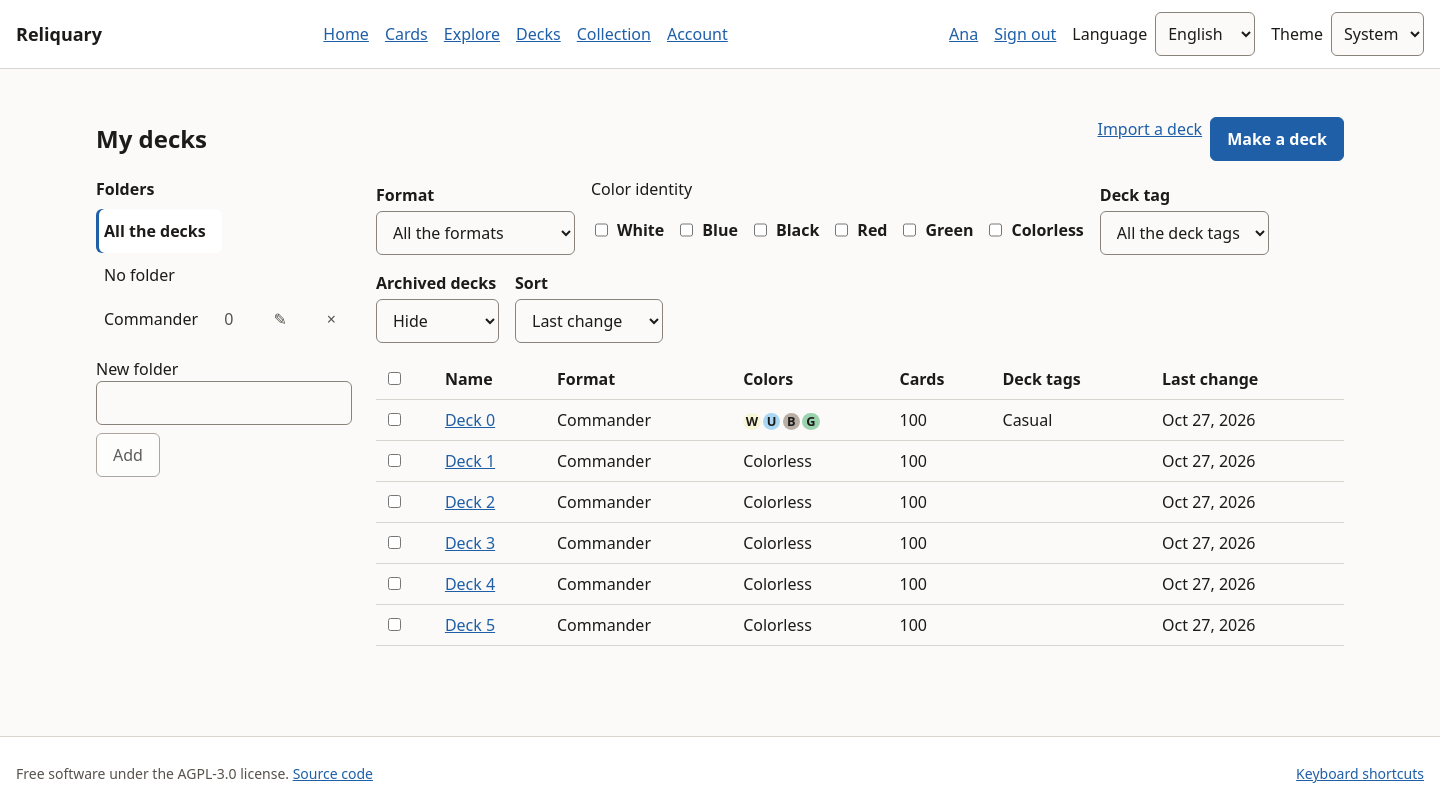
Test: deck organization › moves five decks to a folder in one action
Click the checkbox named "Select Deck 0" at [394, 419], box [388,413,401,426]
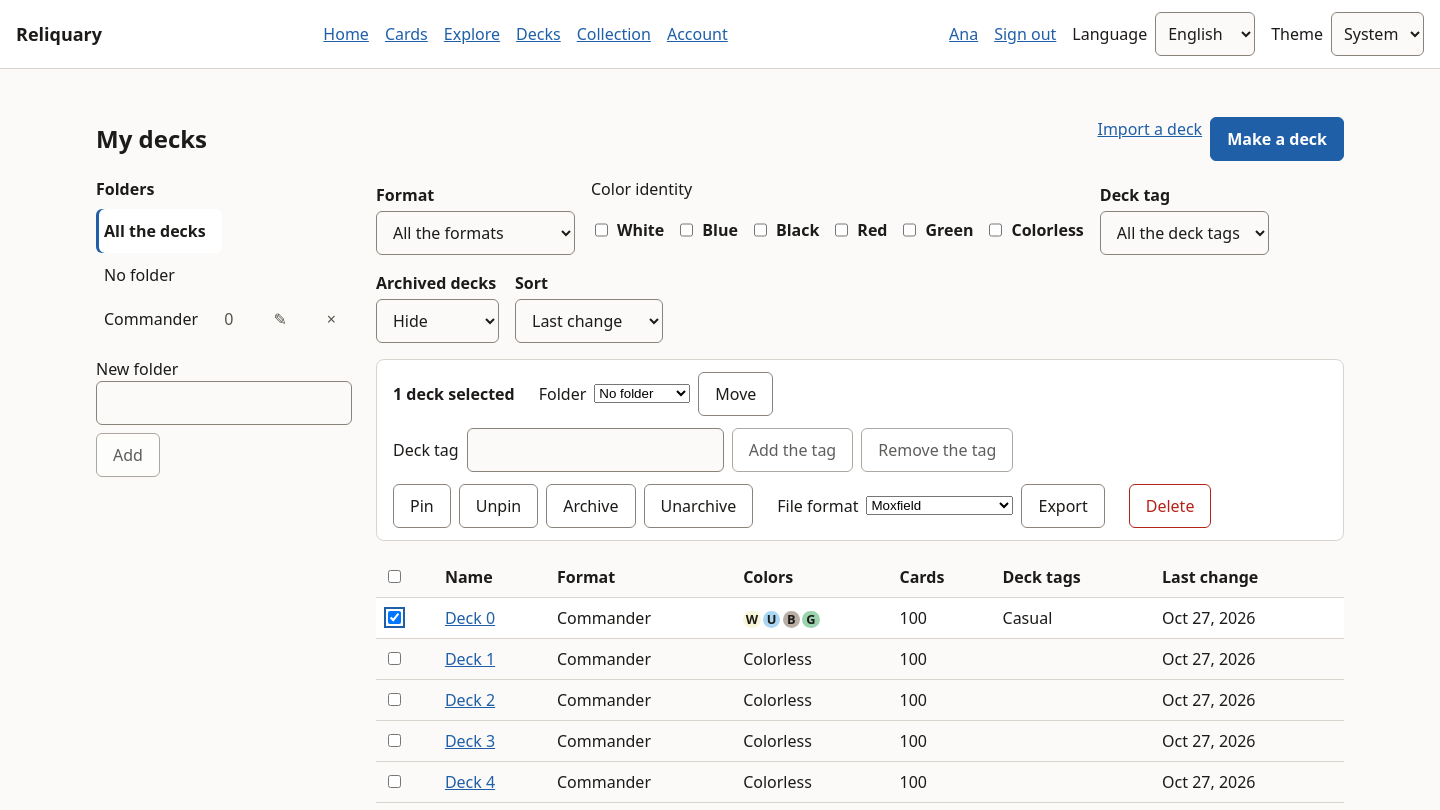
Type keys "{Shift>}"
Click the checkbox named "Select Deck 4" at [394, 781], box [388,775,401,788]
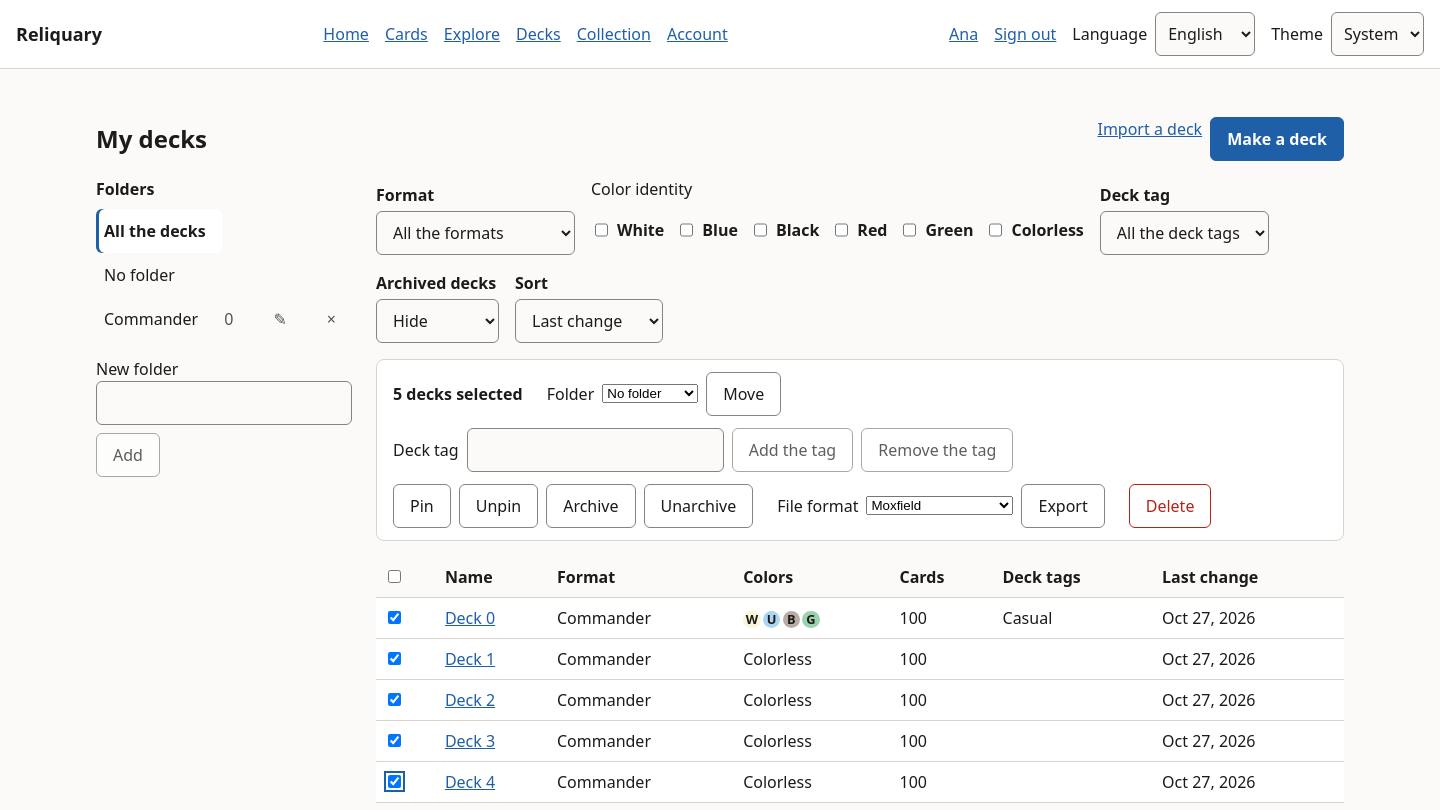
Type keys "{/Shift}"
Select "Commander" in the dropdown labelled "Folder" at [650, 394], box [602,384,698,403]
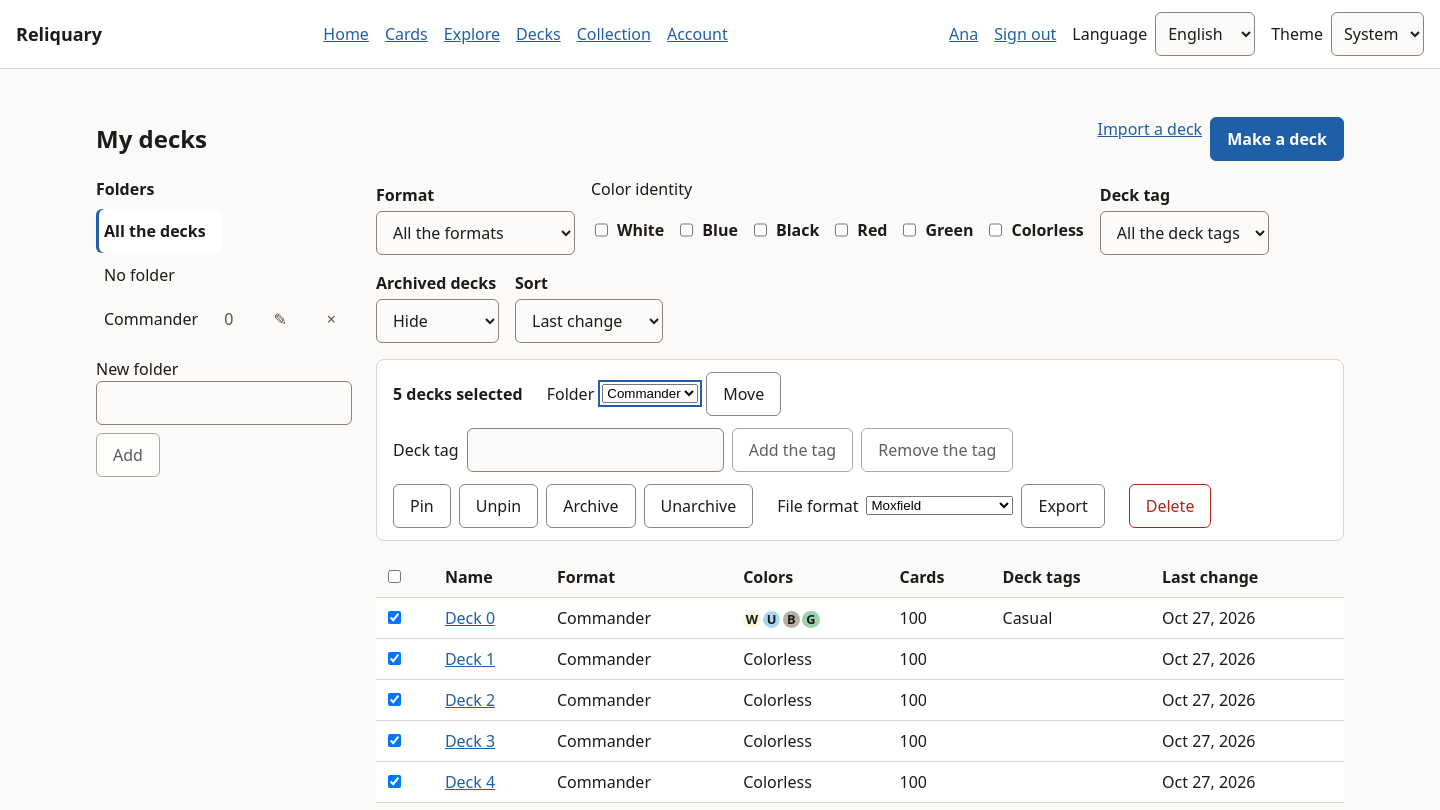
Click the button "Move" at [744, 394], box [706,372,781,416]
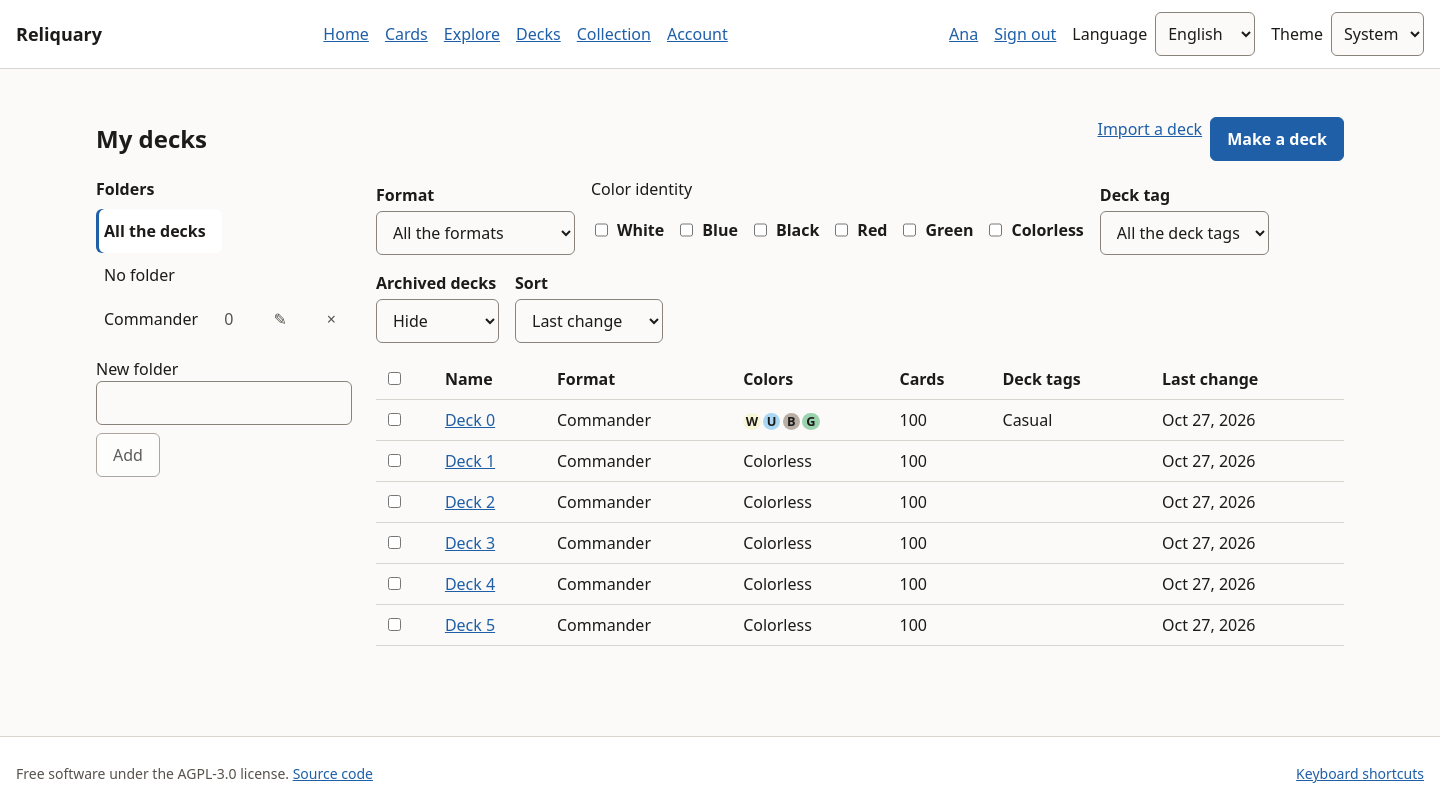
Expected: the text "selected" is gone
